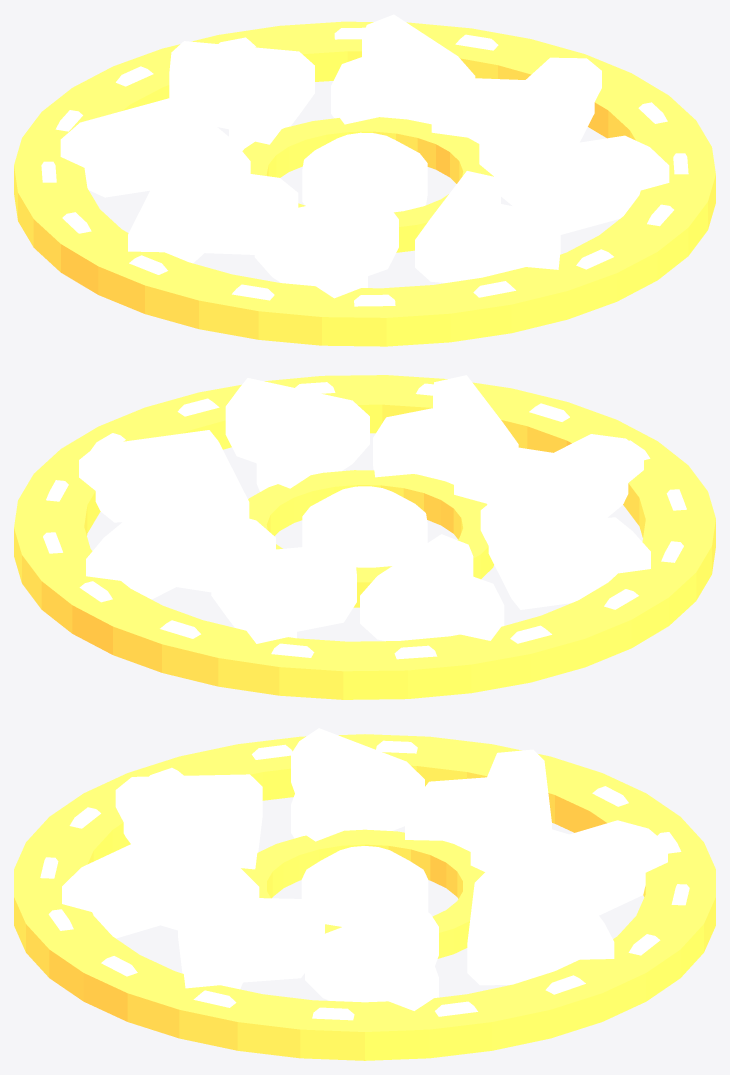
Rendered from vfx-mesh-library-warning-marker-ring-3f134956__21900.glb.
3 views of the same model, one above another, from view 1: azimuth 30°, elevation 25°; view 2: azimuth 150°, elevation 25°; view 3: azimuth 270°, elevation 25° (orthographic).
Parts seen in each view (by area): view 1: warning-marker-ring; view 2: warning-marker-ring; view 3: warning-marker-ring.
Boxes of the visible parts, x1,y1,x2,y2 form: warning-marker-ring: (14, 14, 715, 346); warning-marker-ring: (14, 375, 715, 699); warning-marker-ring: (14, 728, 715, 1060).
Bounding box in the file's own units: 1 × 0.1 × 0.9957.
